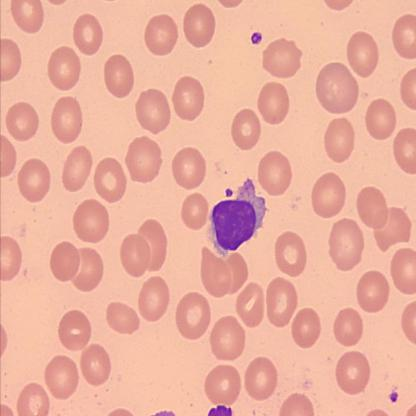Atypical lymphocyte: (209, 177, 268, 254)
